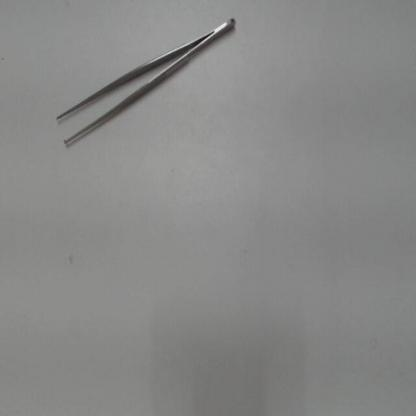Gillies Toothed Dissector: (47, 15, 245, 152)
